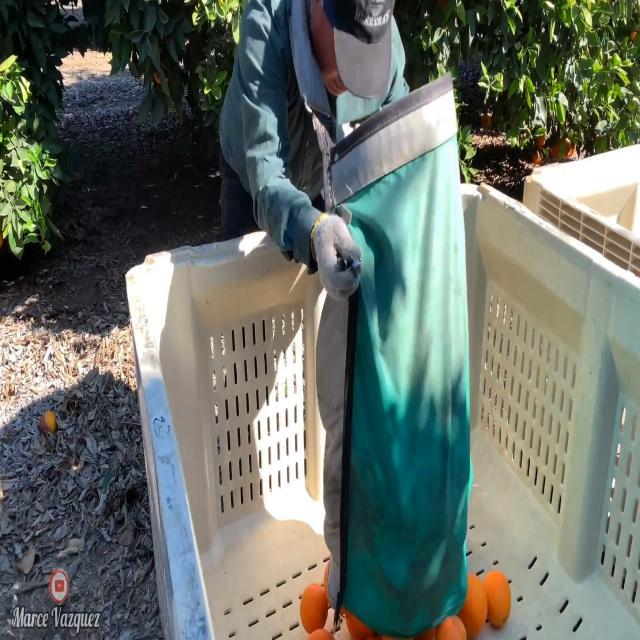Jeruk Sudah Matang: (456, 568, 490, 636), (482, 563, 514, 629), (299, 576, 330, 634)
